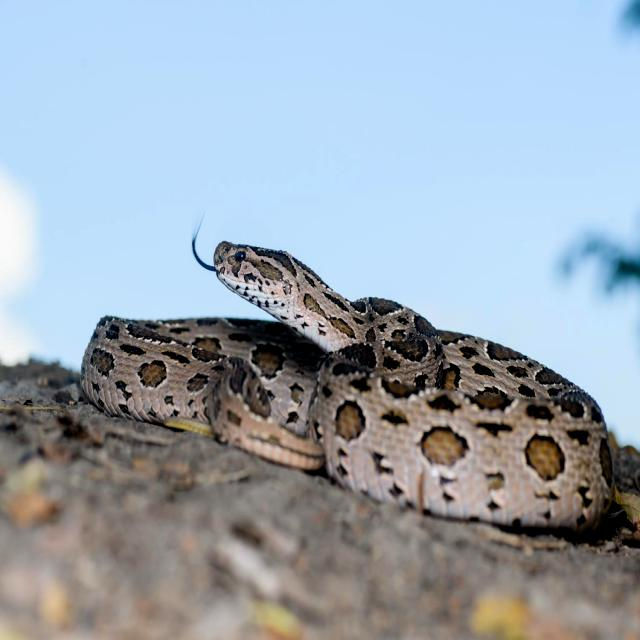Daboia siamensis: (82, 242, 613, 535)
snake: (82, 242, 613, 535)
